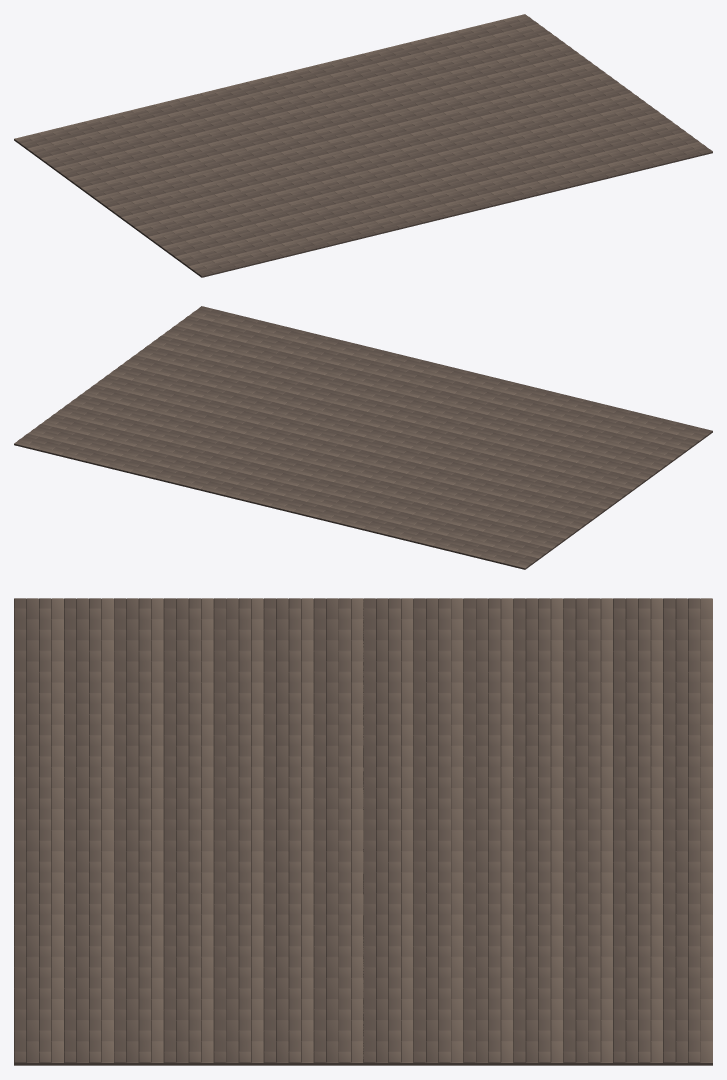
File: Tavern_firstfloor_floor.glb
3 renders of one model, top to bottom at view 1: azimuth 30°, elevation 25°; view 2: azimuth 150°, elevation 25°; view 3: azimuth 270°, elevation 25°, orthographic. The views are drawn at different scales.
Visible parts, largest first — view 1: floor_wood_large_dark; view 2: floor_wood_large_dark; view 3: floor_wood_large_dark.
Part boxes in pixels (<box>): floor_wood_large_dark: <box>14,14,712,277</box>; floor_wood_large_dark: <box>14,306,712,569</box>; floor_wood_large_dark: <box>14,598,712,1065</box>.
Bounding box in the file's own units: 44 × 0.15 × 28.
Materials: 1 (1 with a texture image).
